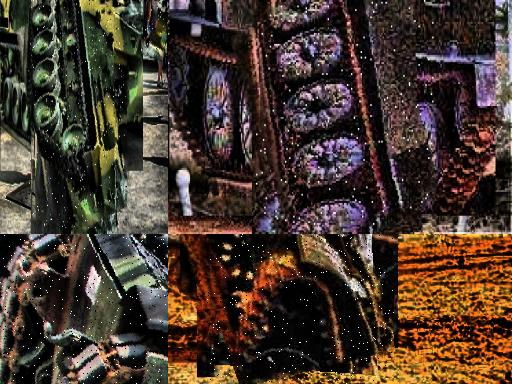tanks: (257, 1, 437, 228), (209, 235, 395, 384), (1, 235, 169, 384), (30, 1, 128, 229), (141, 7, 169, 63)
